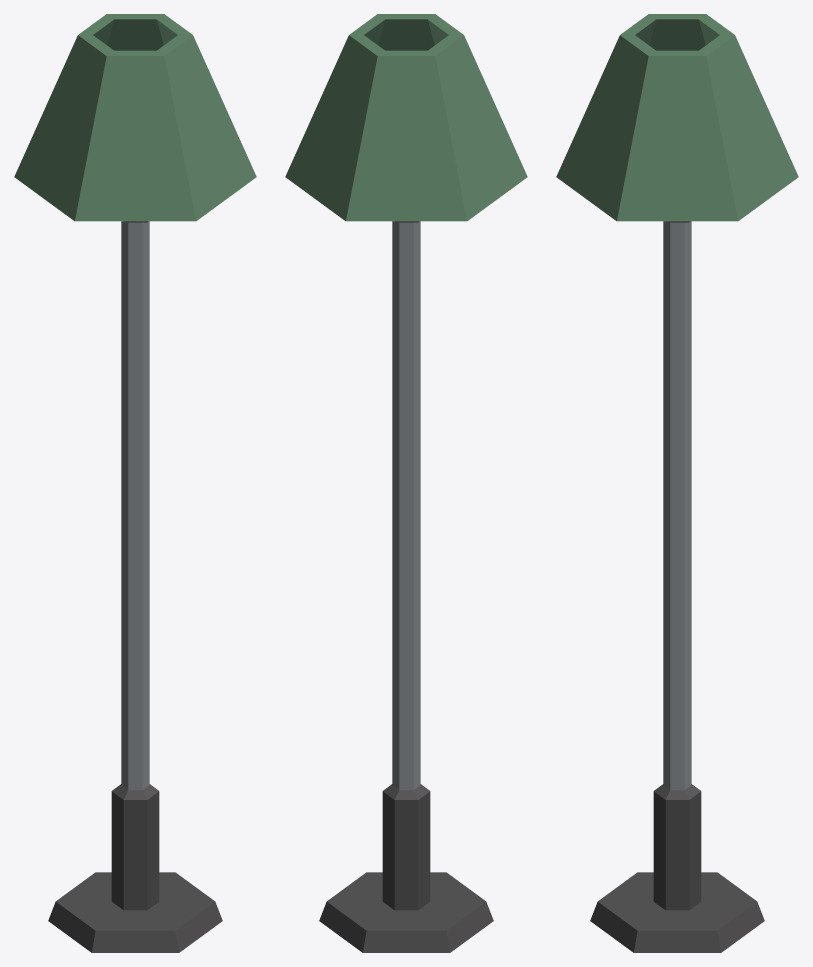
The model's file is LampStanding.fbx.
3 renders of one model, left to right at view 1: azimuth 30°, elevation 25°; view 2: azimuth 150°, elevation 25°; view 3: azimuth 270°, elevation 25°, orthographic.
Visible parts, largest first — view 1: LampStanding; view 2: LampStanding; view 3: LampStanding.
Boxes of the visible parts, box(x1,y1,x2,y2) form: LampStanding: box(14, 14, 256, 952); LampStanding: box(285, 14, 527, 952); LampStanding: box(556, 14, 798, 952).
Size of the model in its own units: 36.36 by 169 by 41.99.
1 material, 1 textured.
